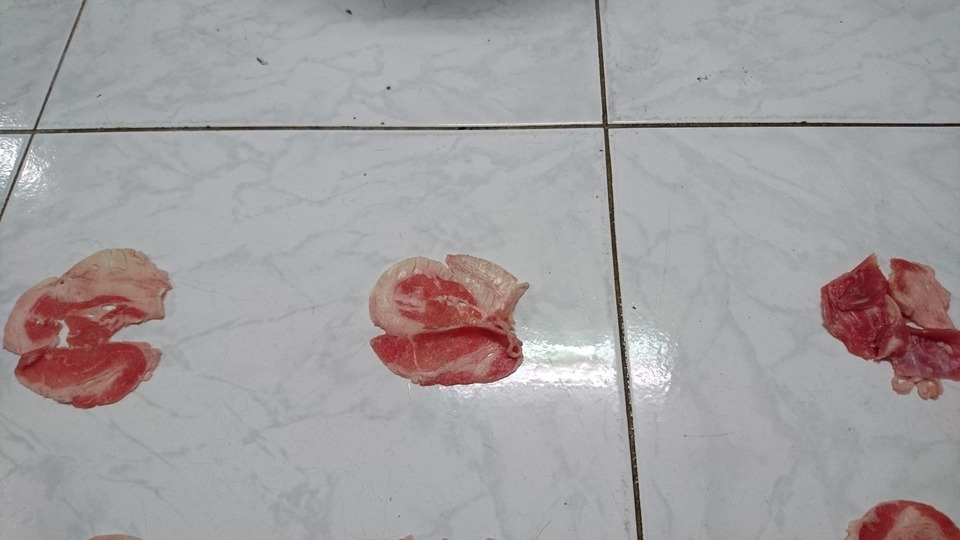restructured meat: (3, 248, 171, 411), (367, 242, 535, 405), (818, 253, 960, 420)
